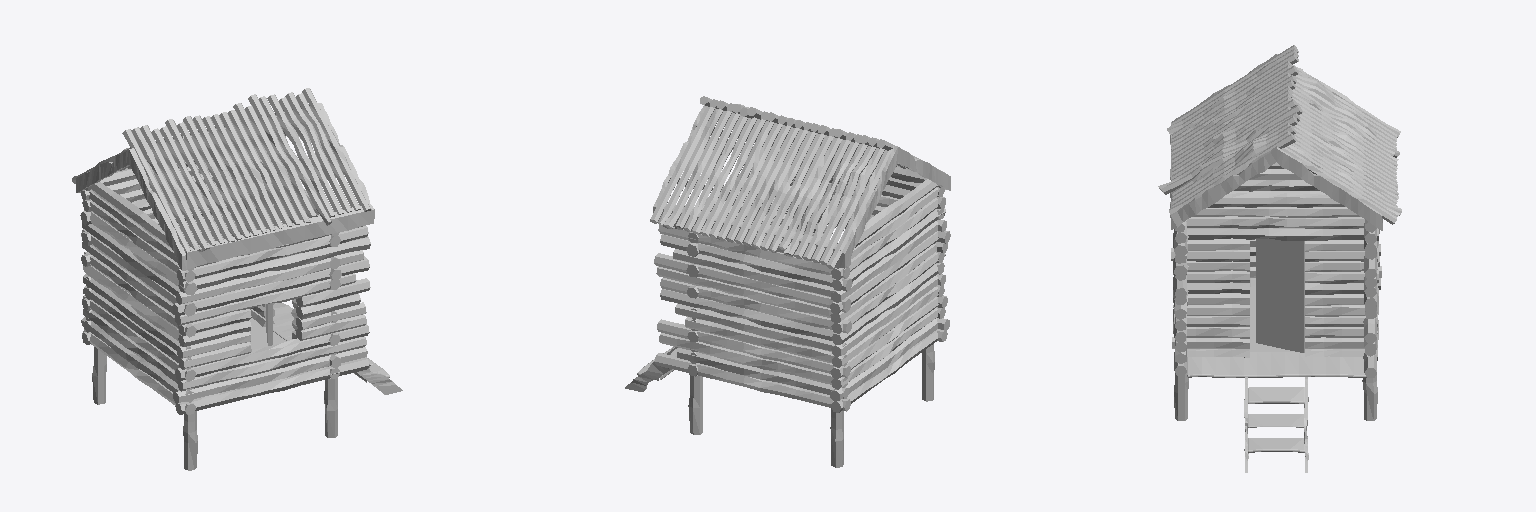
Rendered from shop.obj.
The picture shows the model from 3 angles: view 1: azimuth 30°, elevation 25°; view 2: azimuth 150°, elevation 25°; view 3: azimuth 270°, elevation 25°; orthographic projection.
Visible parts, largest first — view 1: Dwelling_Granary_Cylinder.008; view 2: Dwelling_Granary_Cylinder.008; view 3: Dwelling_Granary_Cylinder.008.
Part boxes in pixels (bbox=[...]): Dwelling_Granary_Cylinder.008: bbox=[72, 88, 402, 470]; Dwelling_Granary_Cylinder.008: bbox=[625, 96, 950, 467]; Dwelling_Granary_Cylinder.008: bbox=[1158, 45, 1401, 472].
Size of the model in its own units: 6.42 by 7.24 by 5.24.